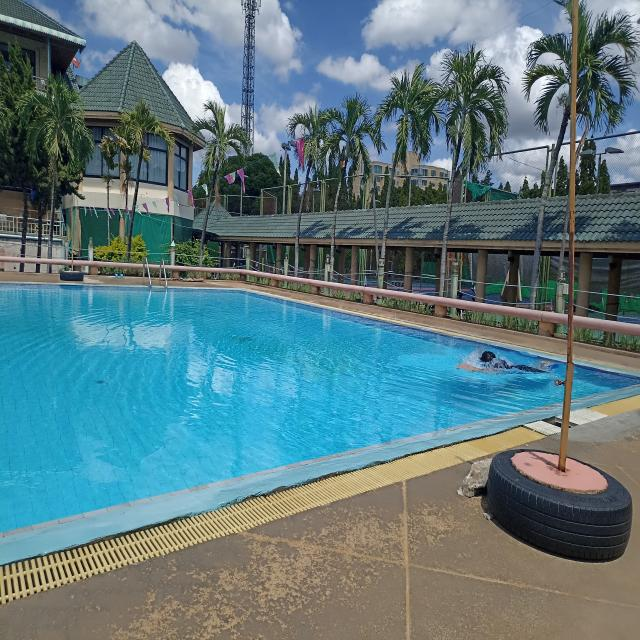Swimming: (444, 337, 565, 392)
